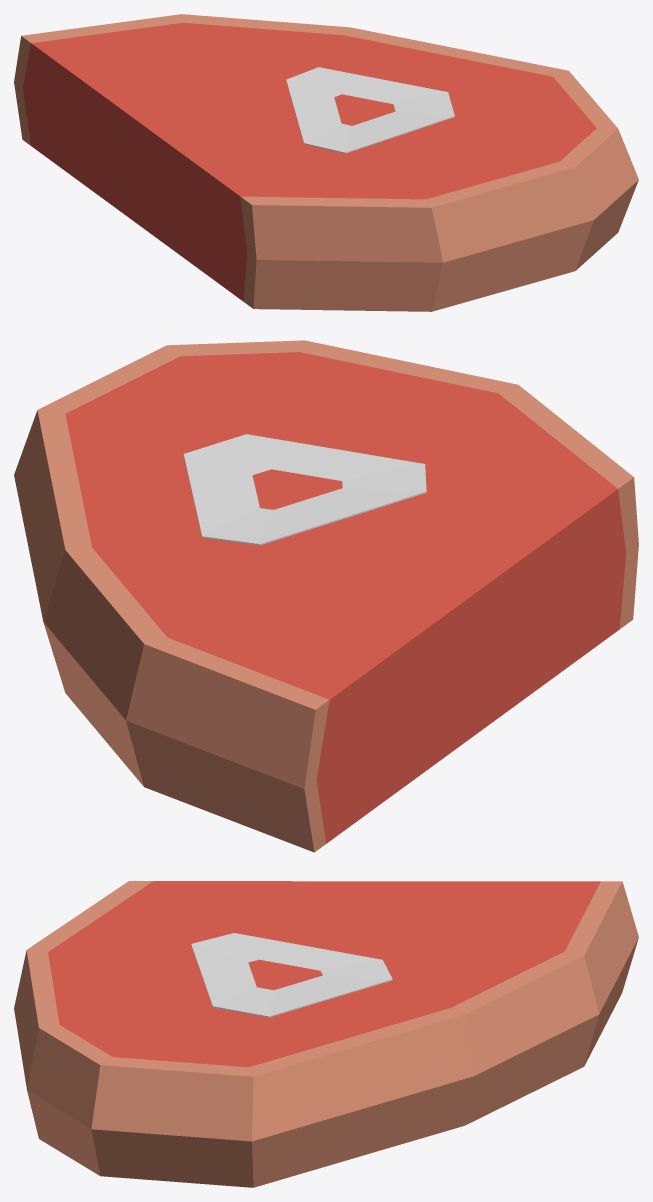
The model's file is MeatLeft.fbx.
3 views of the same model, one above another, from view 1: azimuth 30°, elevation 25°; view 2: azimuth 150°, elevation 25°; view 3: azimuth 270°, elevation 25° (orthographic). The views are drawn at different scales.
Visible parts, largest first — view 1: Куб.001; view 2: Куб.001; view 3: Куб.001.
Boxes of the visible parts, x1=… form: Куб.001: x1=14, y1=14, x2=638, y2=311; Куб.001: x1=14, y1=340, x2=638, y2=852; Куб.001: x1=14, y1=881, x2=638, y2=1187.
Bounding box in the file's own units: 395 × 102 × 510.
